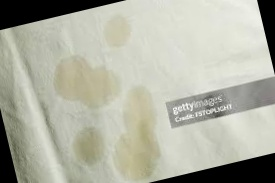oil: (103, 86, 168, 180), (53, 53, 123, 109), (67, 127, 109, 162), (97, 11, 133, 49)
